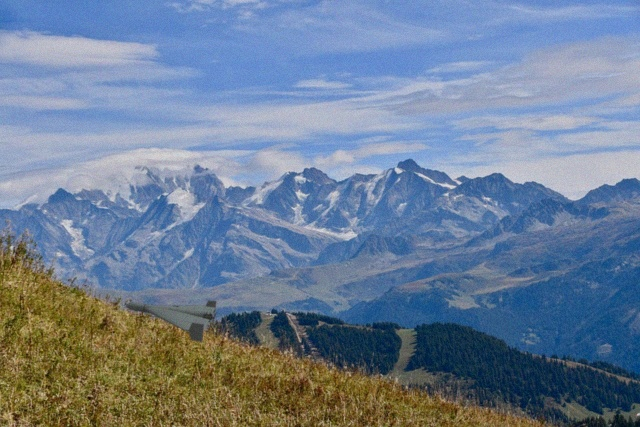shahed: (123, 297, 218, 343)
